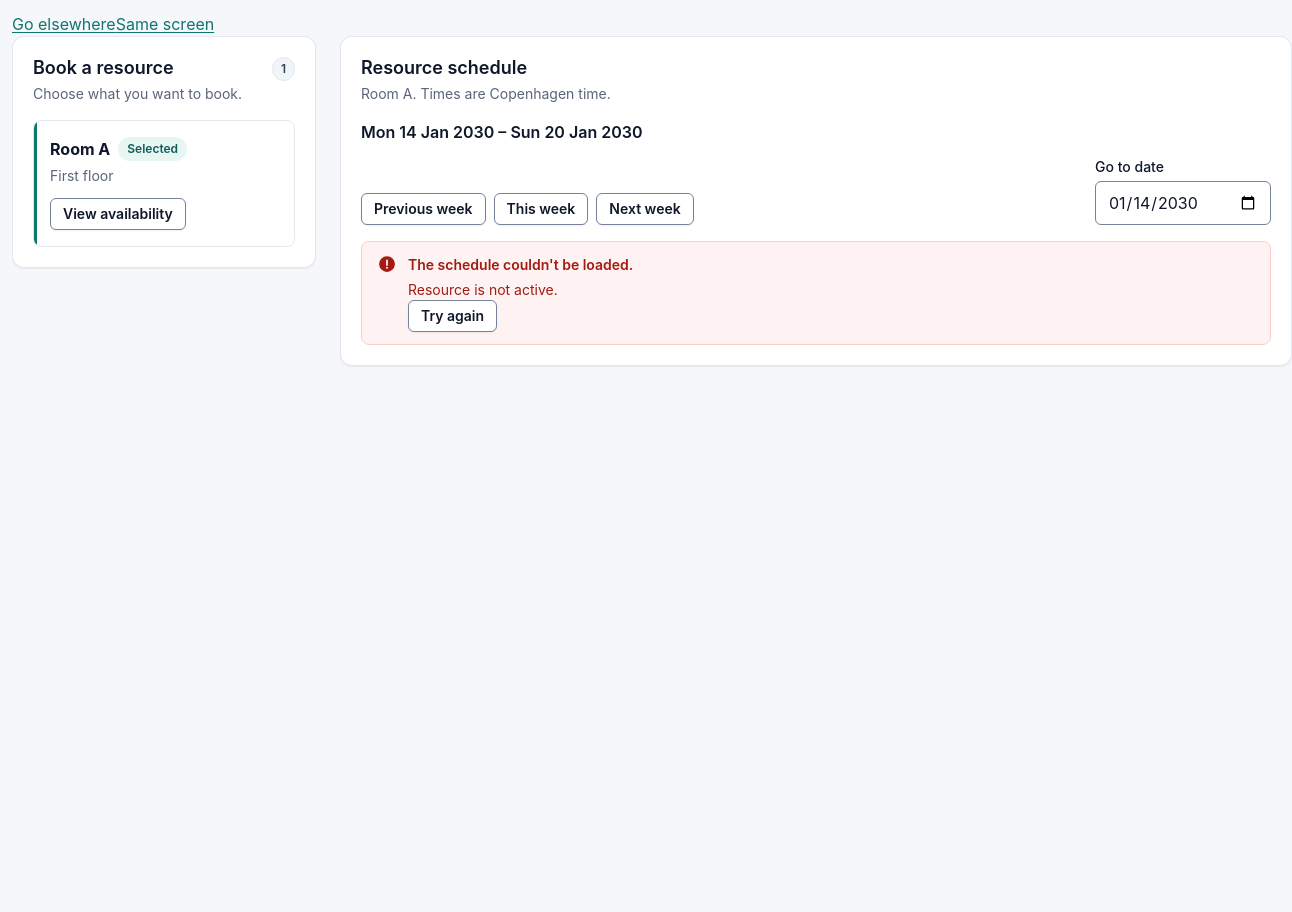
Test: BookingPage calendar › shows a schedule that failed to load, with a way to try again
The width and height of the screenshot is (1292, 912).
Check: the message shows "Resource is not active.", box x1=408 y1=281 x2=558 y2=298
Click the button "Try again". click: [453, 316]
box: x1=408 y1=300 x2=497 y2=332
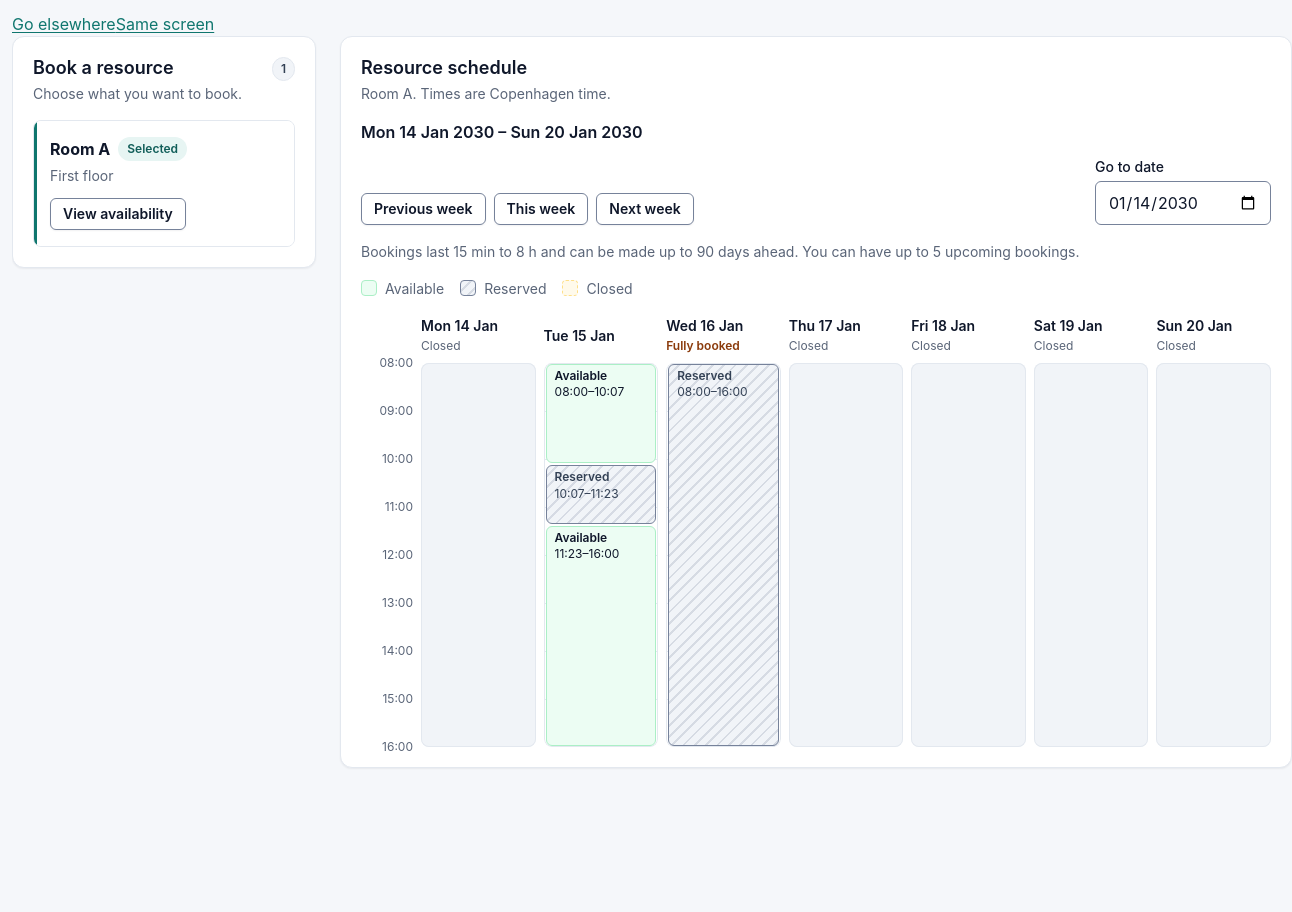
Check: the element "Tue 15 Jan" is shown, box x1=544 y1=311 x2=658 y2=747
